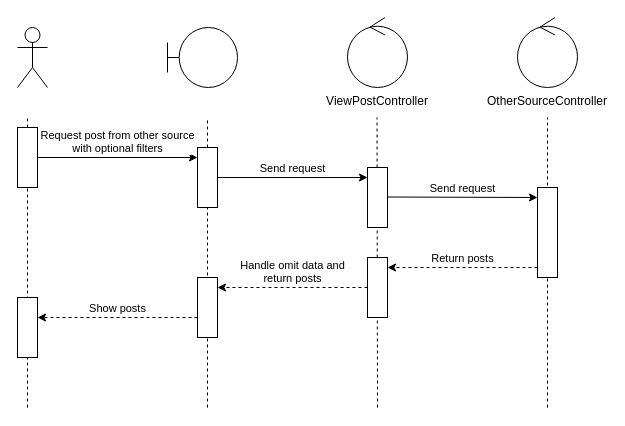
The diagram is 625 pixels wide and 426 high, and some of its shapes have lost their labels. Each missing label, with the centre of its shape:
"User" goes at [32,57].
"ViewPostScreen" goes at [202,57].
